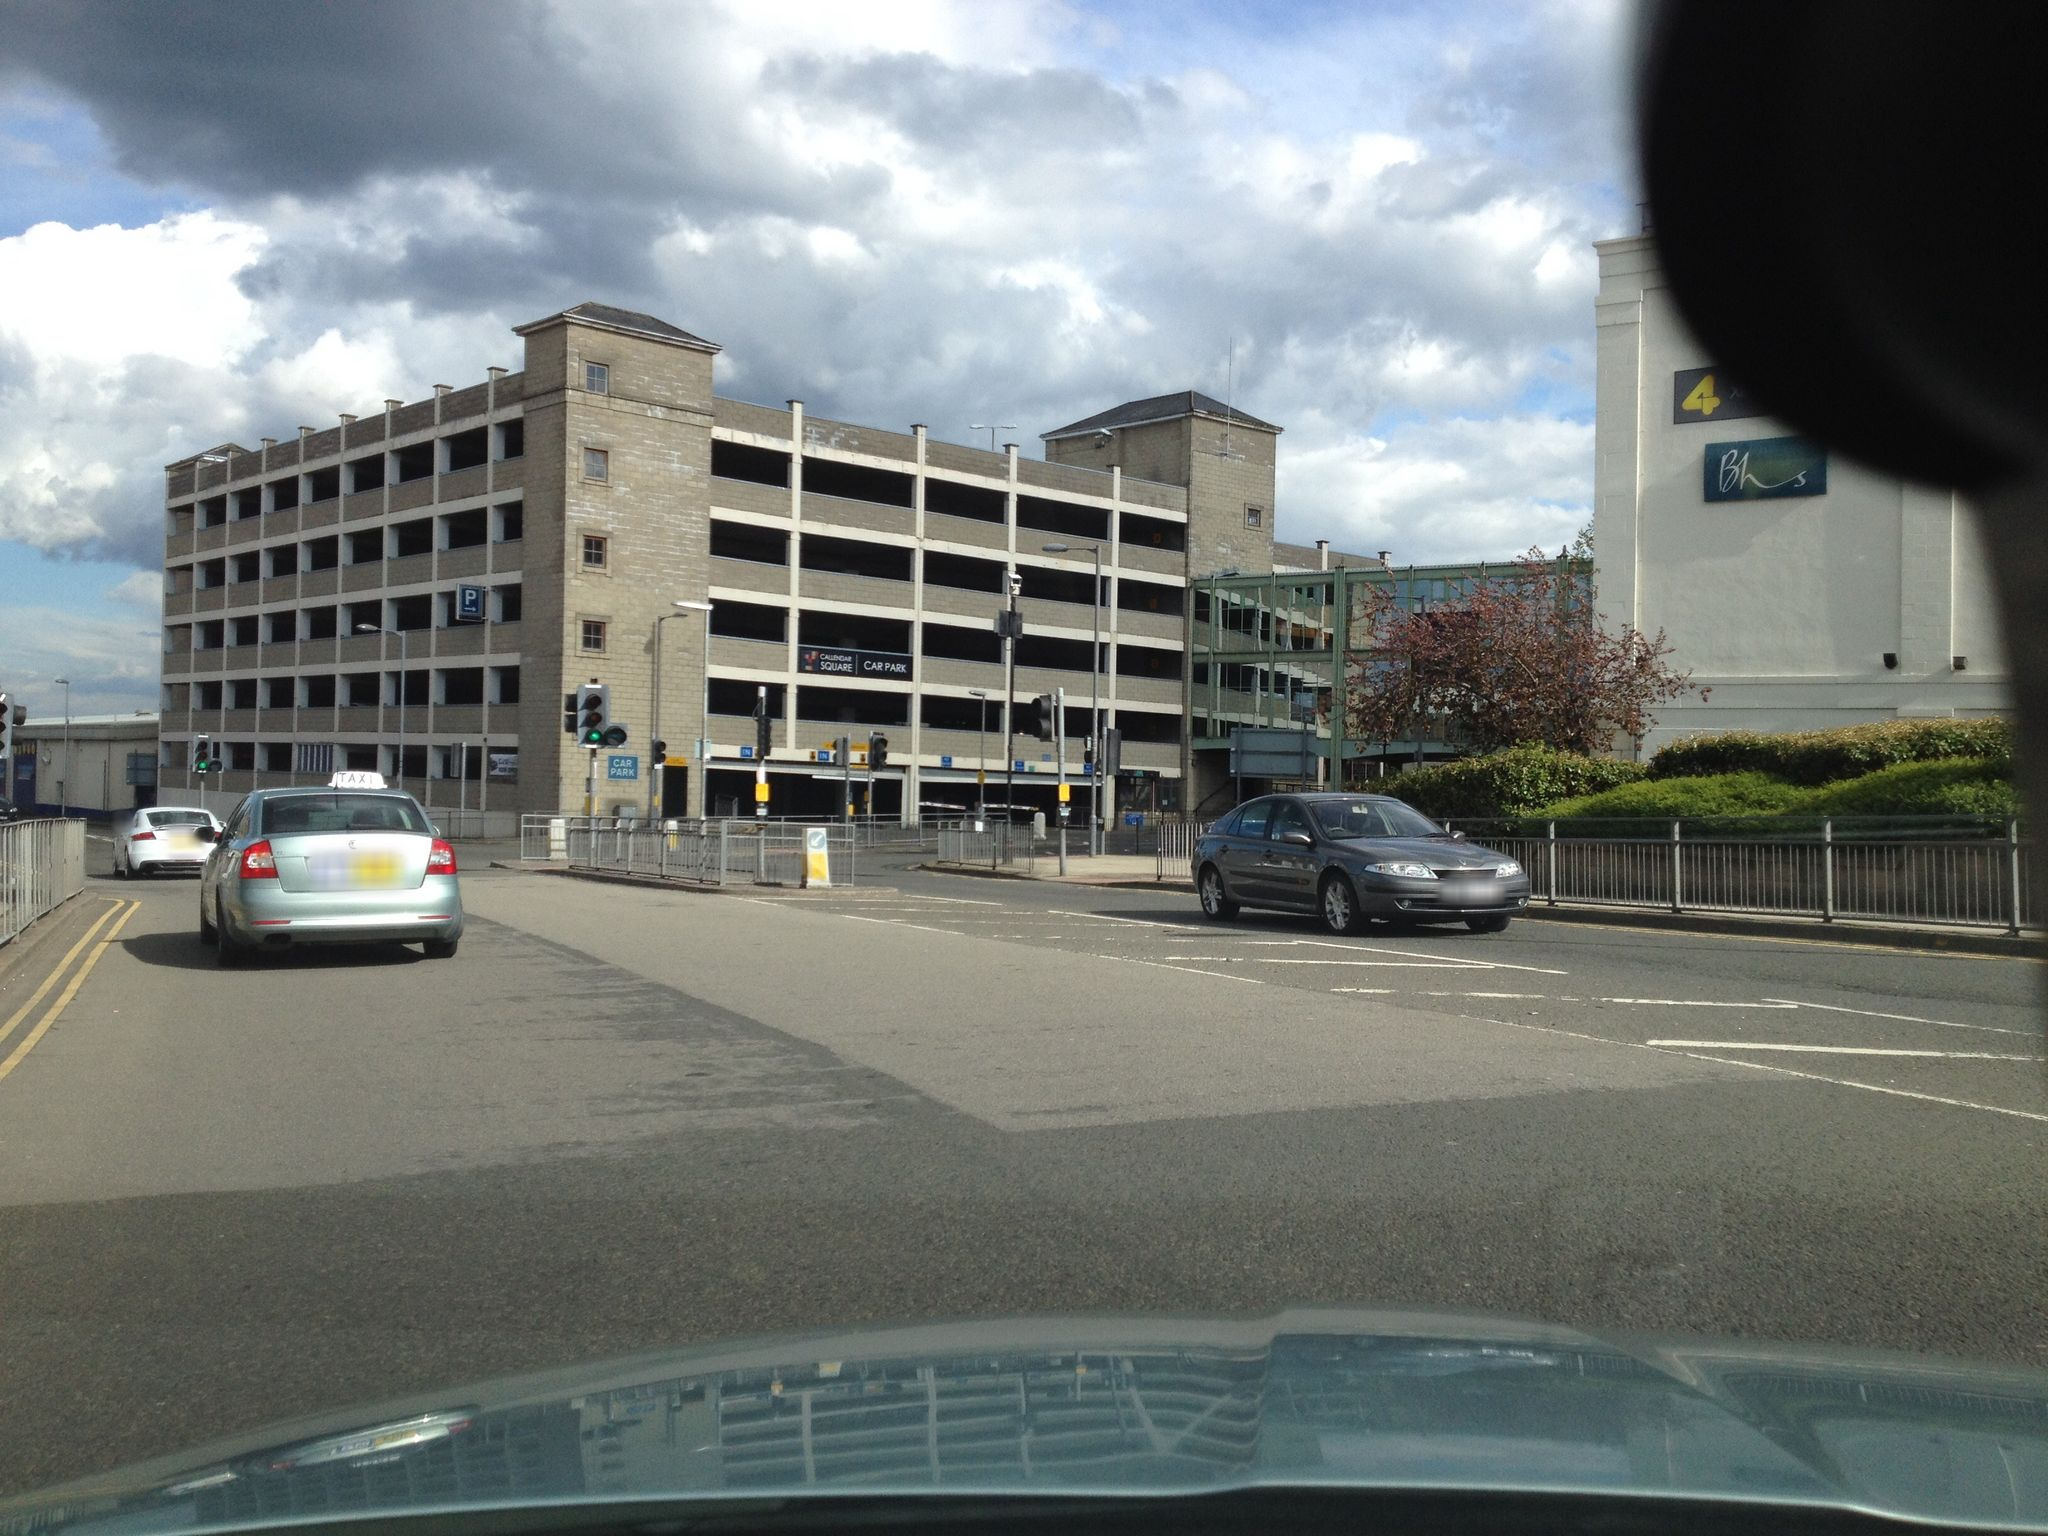car: (197, 770, 464, 960), (1190, 792, 1530, 929), (111, 807, 227, 878)
